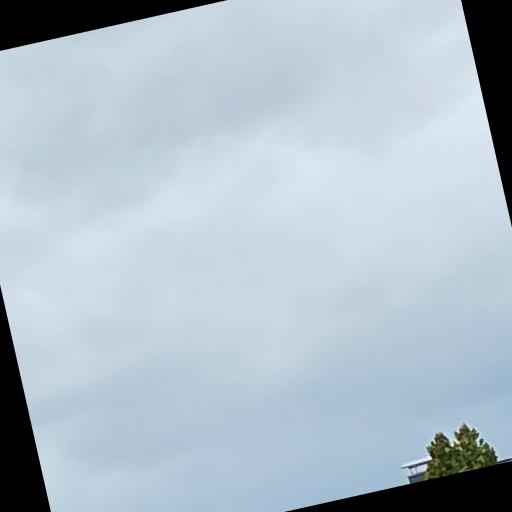tree: (425, 421, 498, 477)
